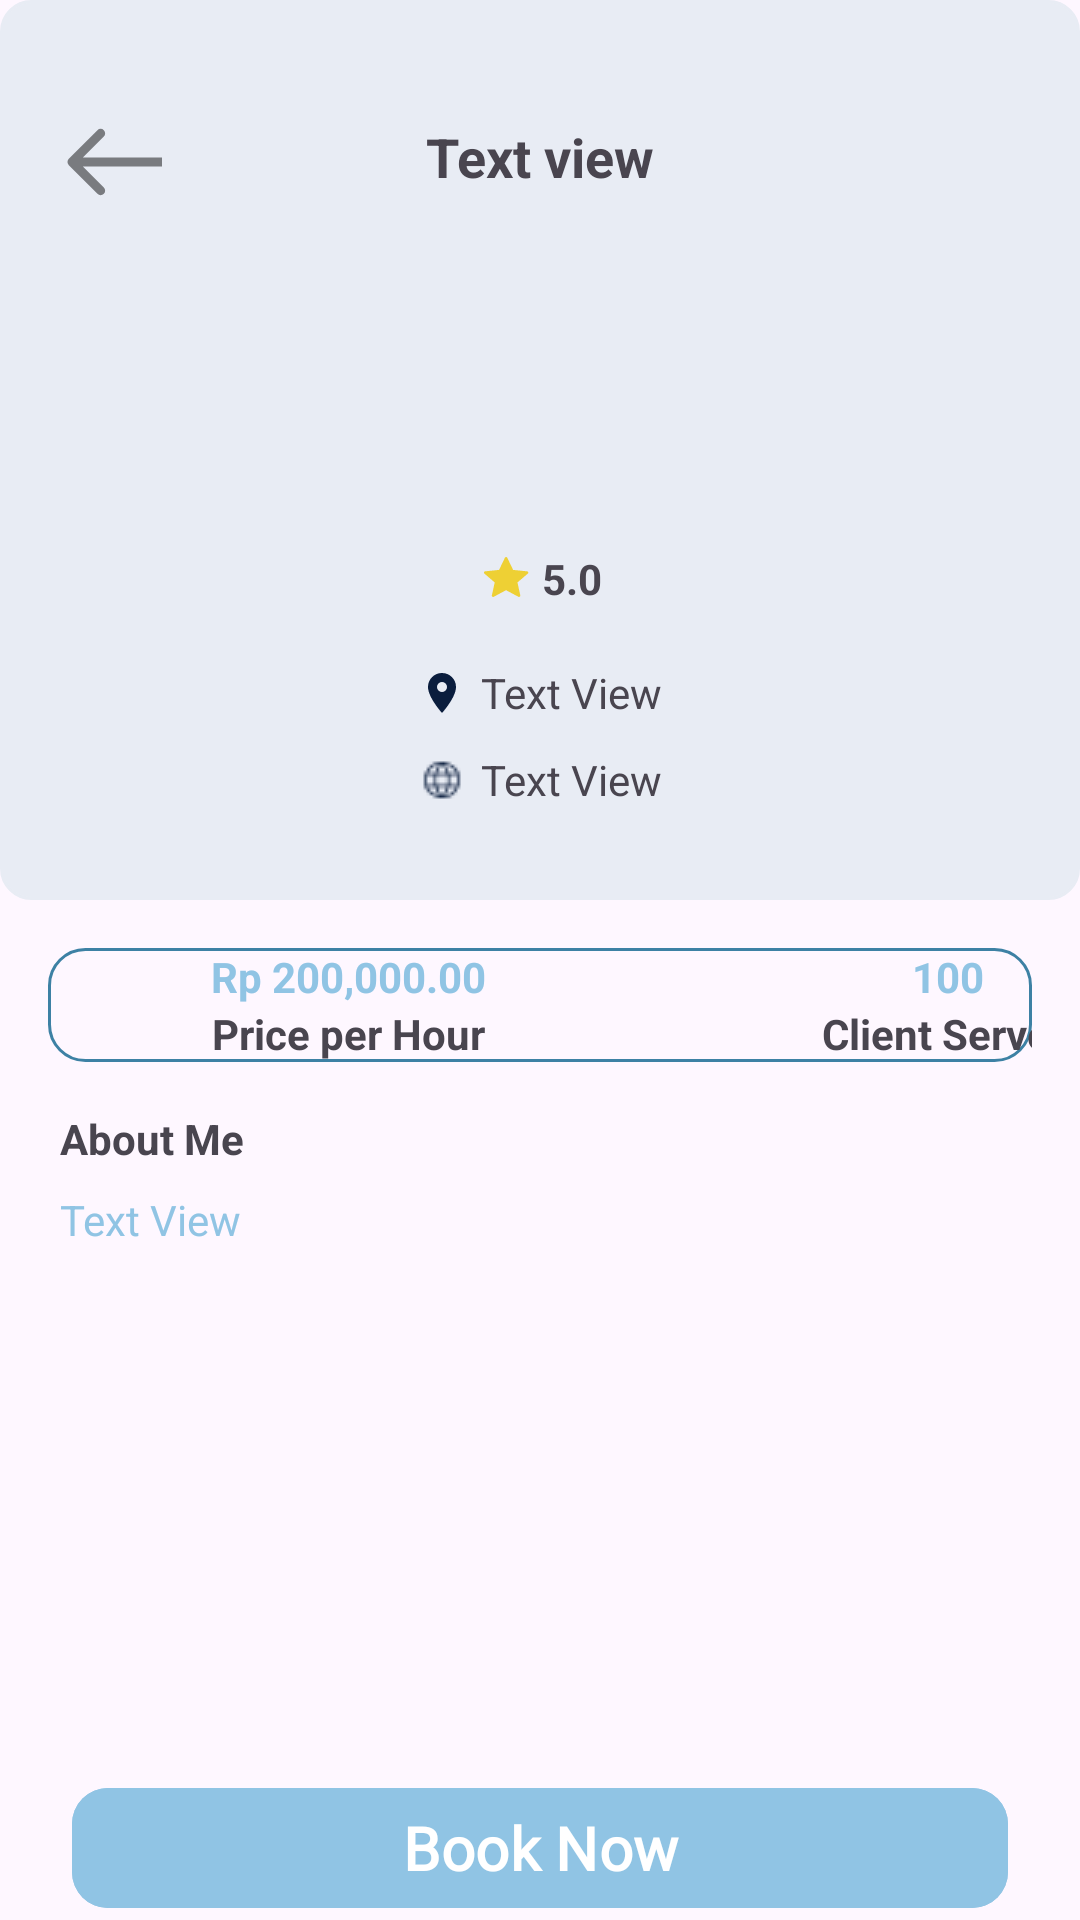

Locate icon controls on the screen. Image size 1080w x 1920h, boxes as (x1, y1, x2, y2).
globeicon: (423, 761, 461, 799)
location: (428, 673, 456, 713)
star: (484, 557, 529, 597)
